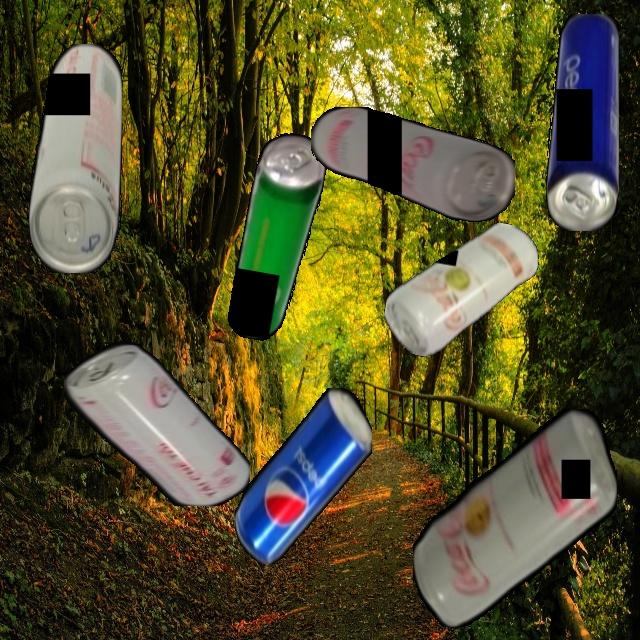debris: (412, 408, 617, 627), (63, 342, 250, 506), (378, 206, 544, 373), (234, 387, 372, 564), (222, 128, 331, 346), (310, 107, 515, 222), (28, 43, 122, 273), (545, 13, 619, 231)
